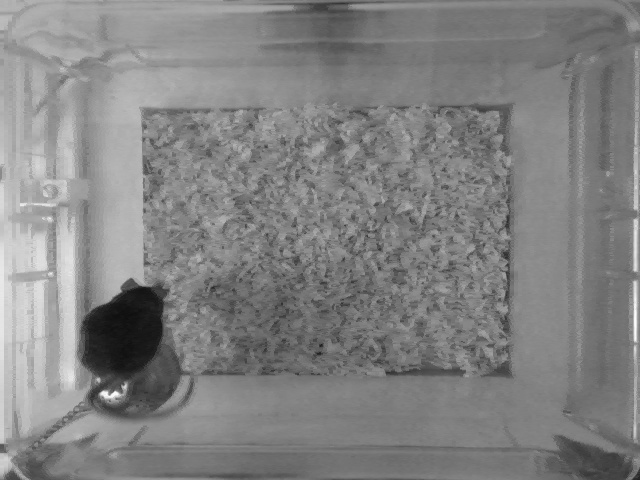mice: (67, 267, 200, 424)
